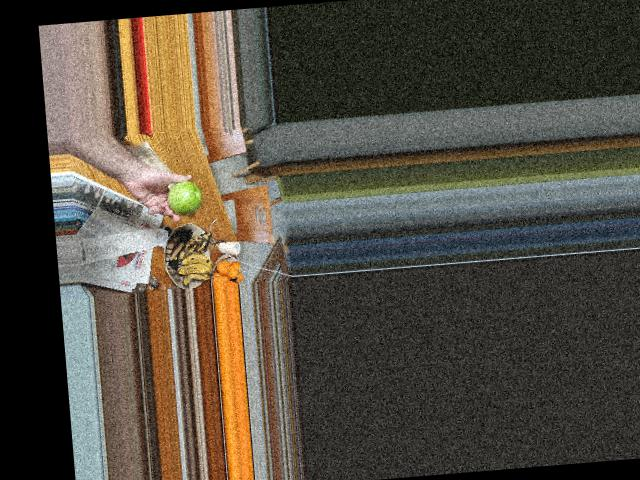apple: (164, 181, 202, 213)
